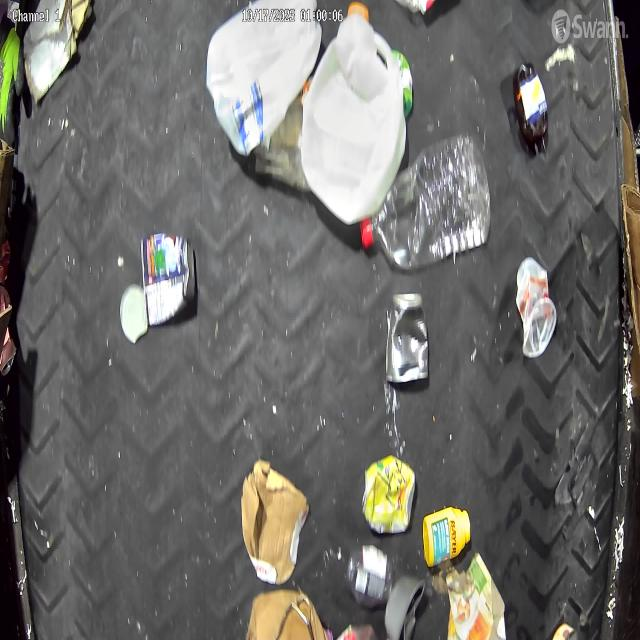milk-jug: (202, 4, 327, 158)
